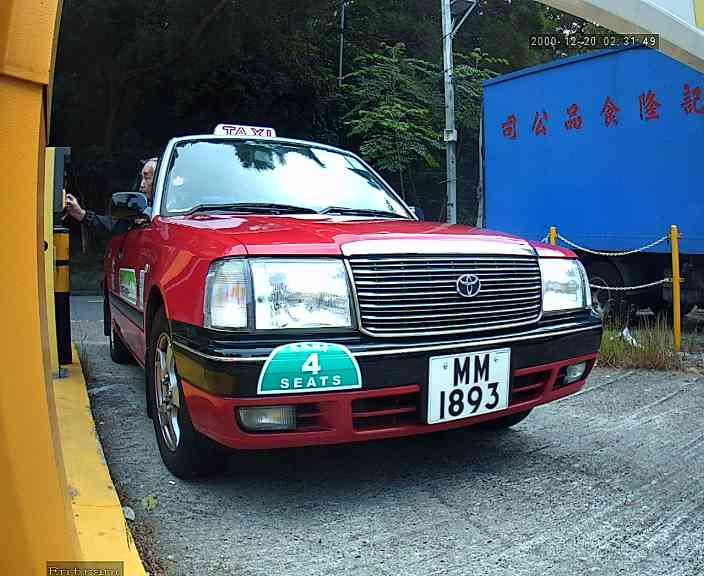Car: (60, 26, 629, 497)
License Plate: (412, 348, 516, 425)
